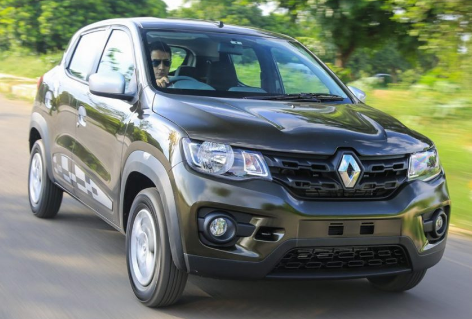car: (25, 15, 452, 311)
